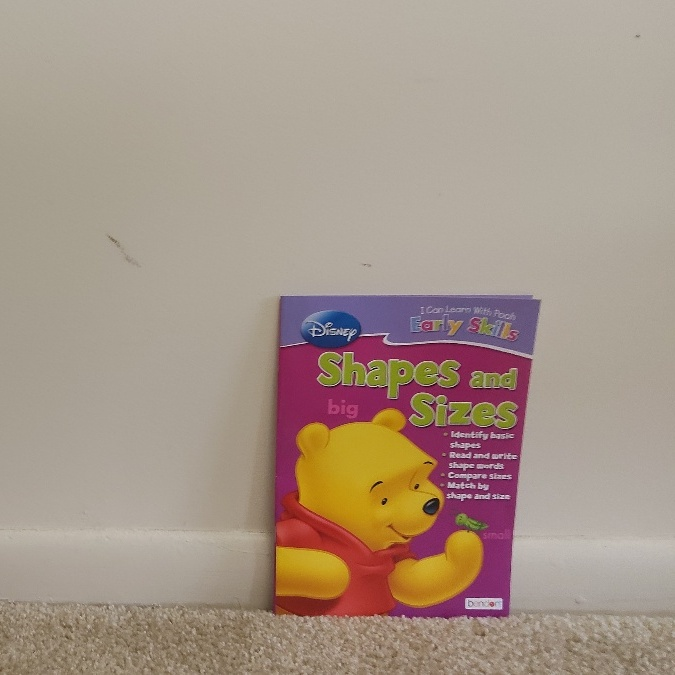book: (282, 298, 511, 616)
